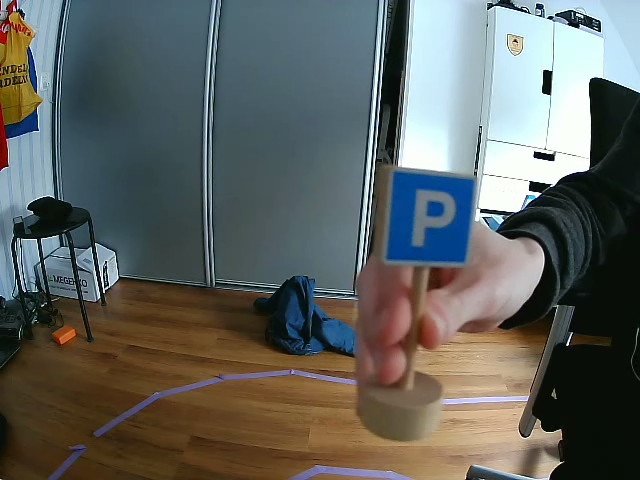parkeerbord: (376, 165, 475, 261)
